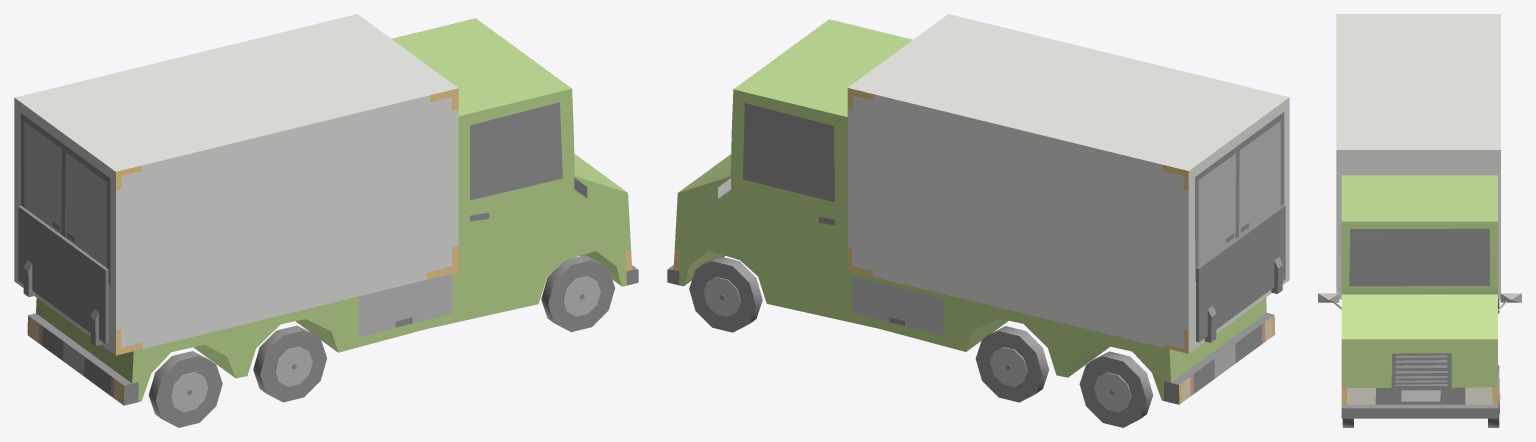
Rendered from truck11.fbx.
The picture shows the model from 3 angles, left to right: view 1: azimuth 30°, elevation 25°; view 2: azimuth 150°, elevation 25°; view 3: azimuth 270°, elevation 25°; orthographic projection. The views are drawn at different scales.
Parts seen in each view (by area): view 1: Cube_1, Cylinder, Cylinder_9, Cylinder_6; view 2: Cube_1, Cylinder_8, Cylinder_1, Cylinder_7; view 3: Cube_1, Cylinder_7.
Boxes of the visible parts, x1,y1,x2,y2 form: Cube_1: [14, 14, 638, 405]; Cylinder: [253, 325, 327, 402]; Cylinder_9: [148, 351, 222, 427]; Cylinder_6: [541, 255, 614, 332]; Cube_1: [667, 14, 1289, 404]; Cylinder_8: [1079, 351, 1153, 427]; Cylinder_1: [975, 326, 1049, 402]; Cylinder_7: [689, 256, 762, 332]; Cube_1: [1318, 14, 1521, 418]; Cylinder_7: [1488, 365, 1500, 427].
Bounding box in the file's own units: 607 × 300 × 247.
